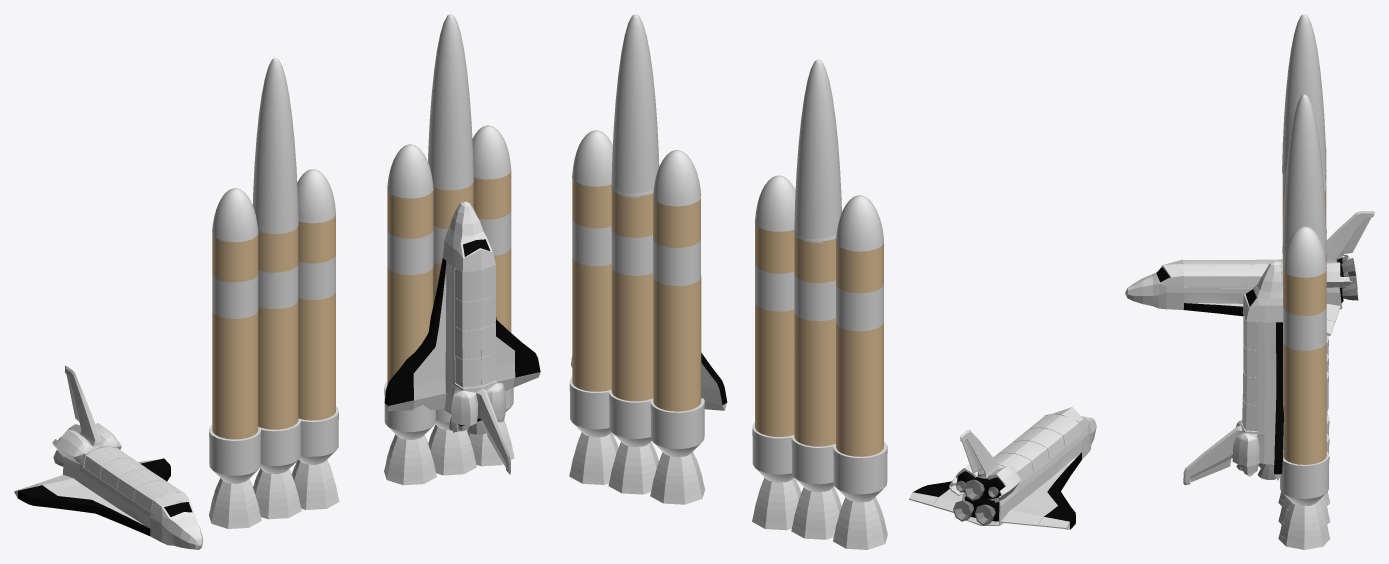
The model's file is Blender.fbx.
The picture shows the model from 3 angles, left to right: view 1: azimuth 30°, elevation 25°; view 2: azimuth 150°, elevation 25°; view 3: azimuth 270°, elevation 25°; orthographic projection. The views are drawn at different scales.
Parts seen in each view (by area): view 1: pSphere8, pSphere6, pSphere7; view 2: pSphere8, pSphere6, pSphere7; view 3: pSphere8, pSphere7, pSphere6.
Part boxes in pixels (<box>): pSphere8: <box>384,14,540,485</box>; pSphere6: <box>209,58,339,528</box>; pSphere7: <box>14,366,203,549</box>; pSphere8: <box>569,14,727,504</box>; pSphere6: <box>752,59,887,549</box>; pSphere7: <box>909,407,1096,529</box>; pSphere8: <box>1183,94,1330,549</box>; pSphere7: <box>1125,211,1374,336</box>; pSphere6: <box>1282,14,1329,458</box>.
Bounding box in the file's own units: 22.3 × 19.28 × 10.18.
